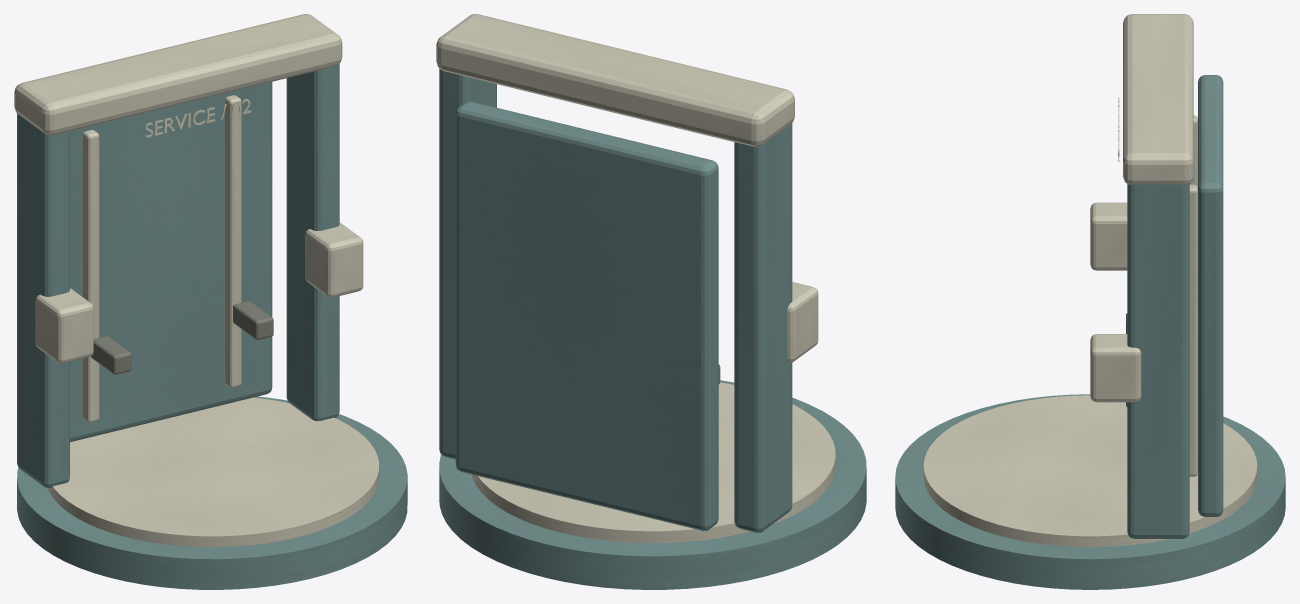
File: Service_Cradle.glb
The picture shows the model from 3 angles, left to right: view 1: azimuth 30°, elevation 25°; view 2: azimuth 150°, elevation 25°; view 3: azimuth 270°, elevation 25°; orthographic projection. The views are drawn at different scales.
Visible parts, largest first — view 1: Service_Cradle; view 2: Service_Cradle; view 3: Service_Cradle.
Boxes of the visible parts, left/top/right/bottom form: Service_Cradle: left=14, top=14, right=407, bottom=589; Service_Cradle: left=436, top=14, right=866, bottom=589; Service_Cradle: left=895, top=14, right=1285, bottom=589.
Bounding box in the file's own units: 2.76 × 3.31 × 2.76.
Materials: 3 (2 with a texture image).
